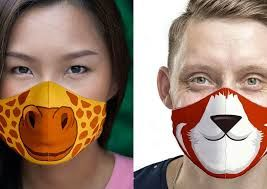with-mask: (1, 3, 113, 175), (158, 6, 267, 181)
